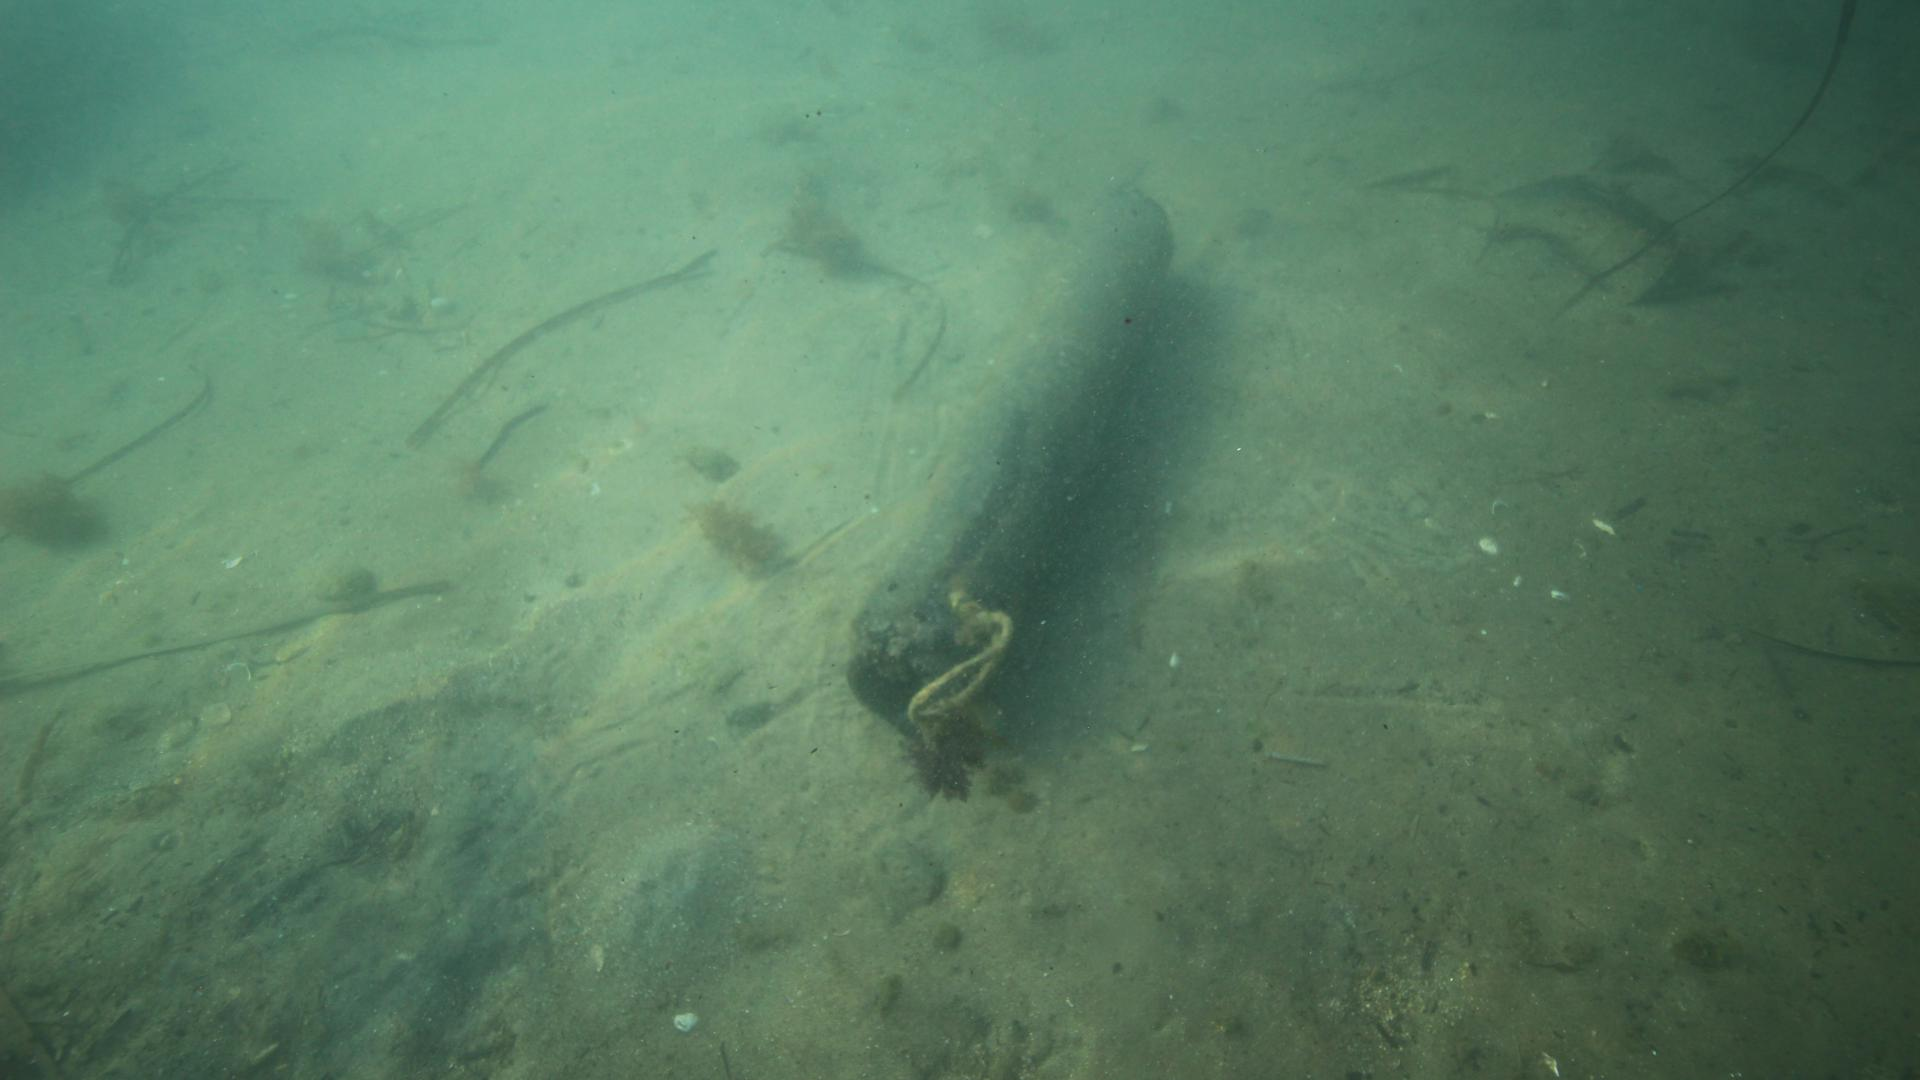bundle of ropes: (891, 595, 1017, 732)
eel fish trap: (843, 181, 1174, 742)
